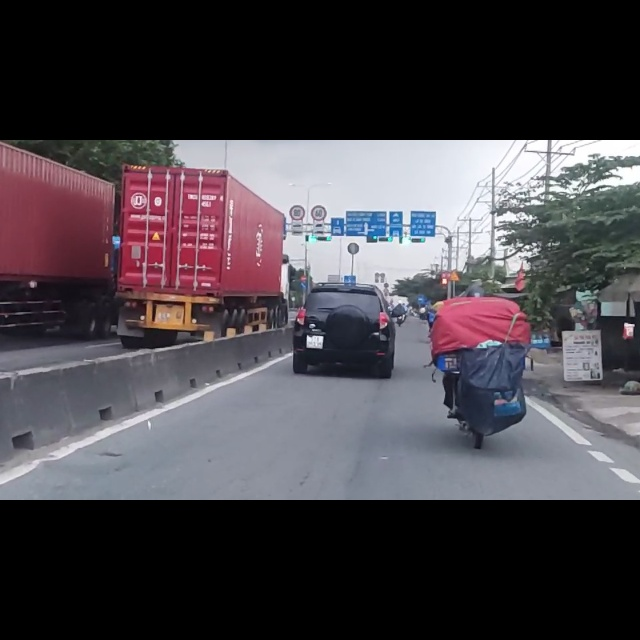bien_hieu_lenh: (311, 115, 327, 146), (289, 116, 305, 143), (300, 252, 307, 264), (300, 241, 307, 252)
